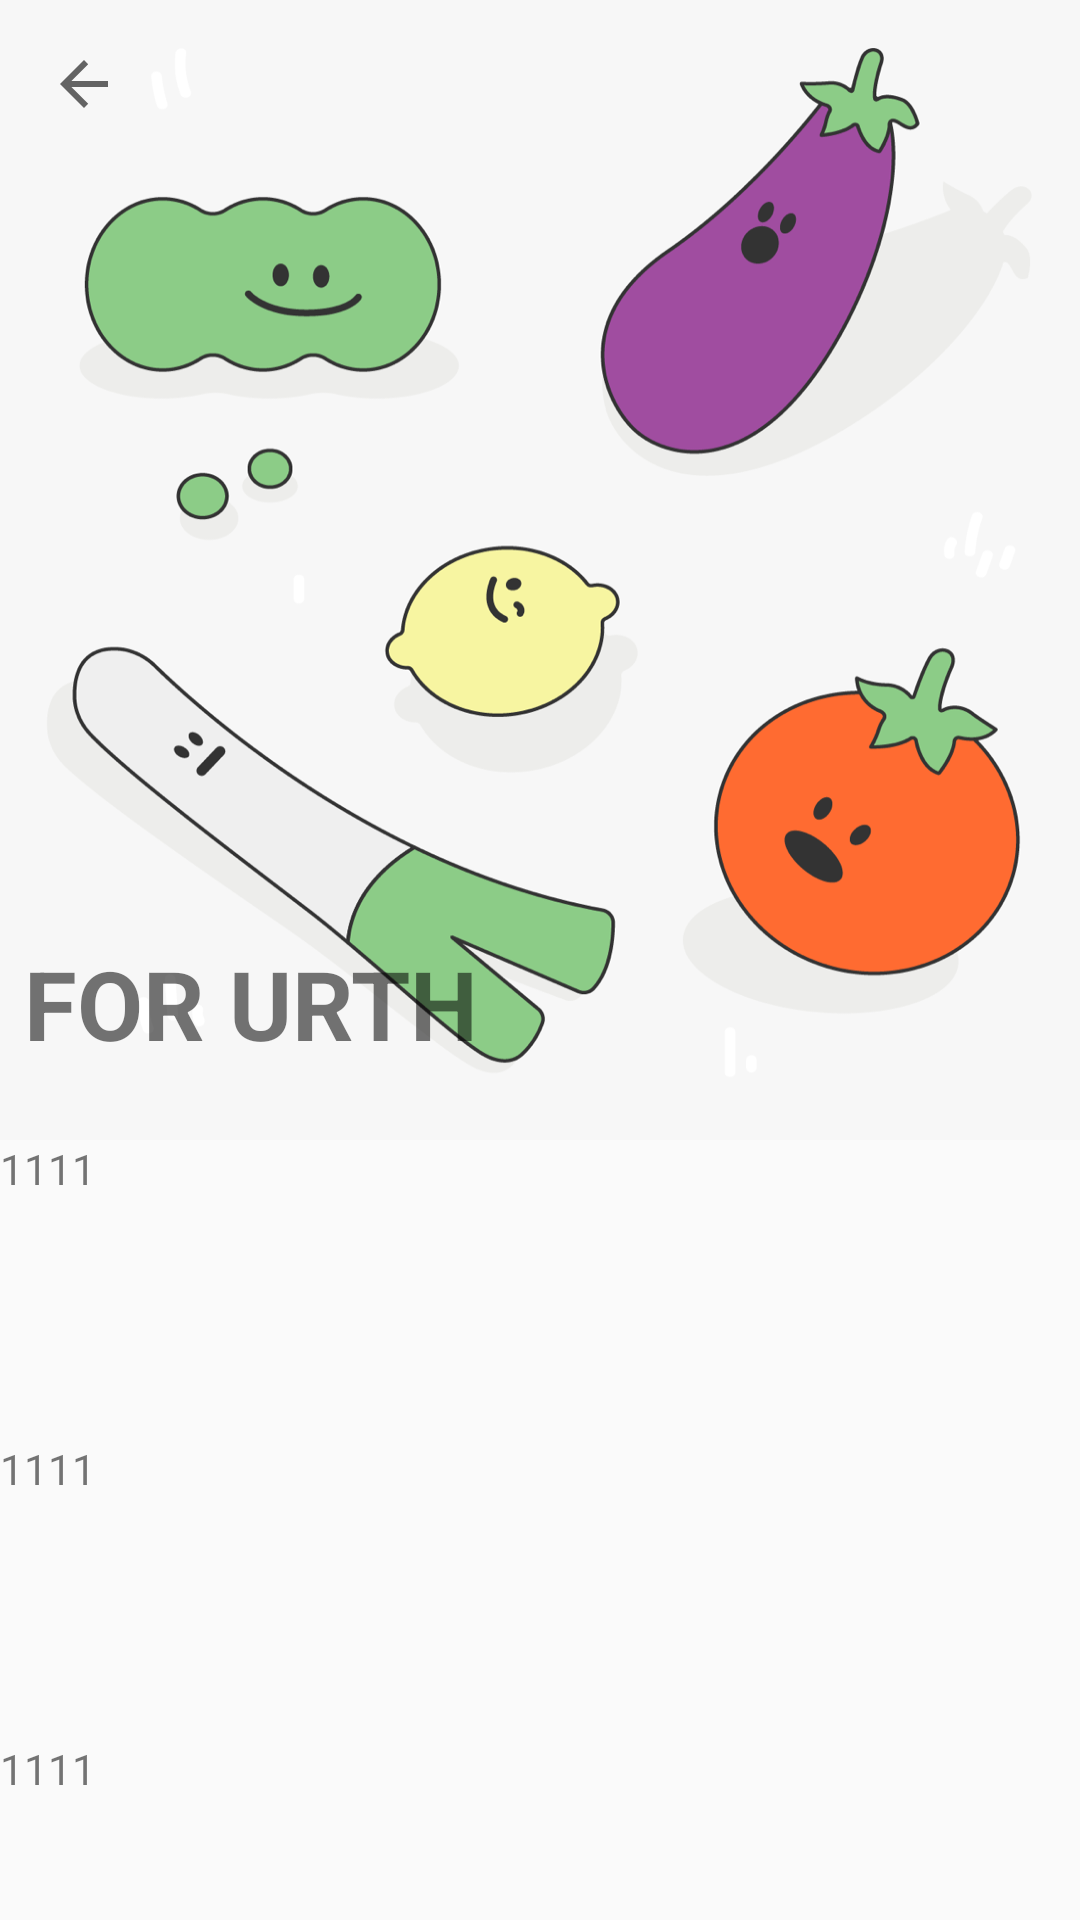

Named icons in this screenshot (1080w x 1920h) and their bounding boxes, (x1, y1, x2, y2):
ab back: (60, 60, 108, 108)
